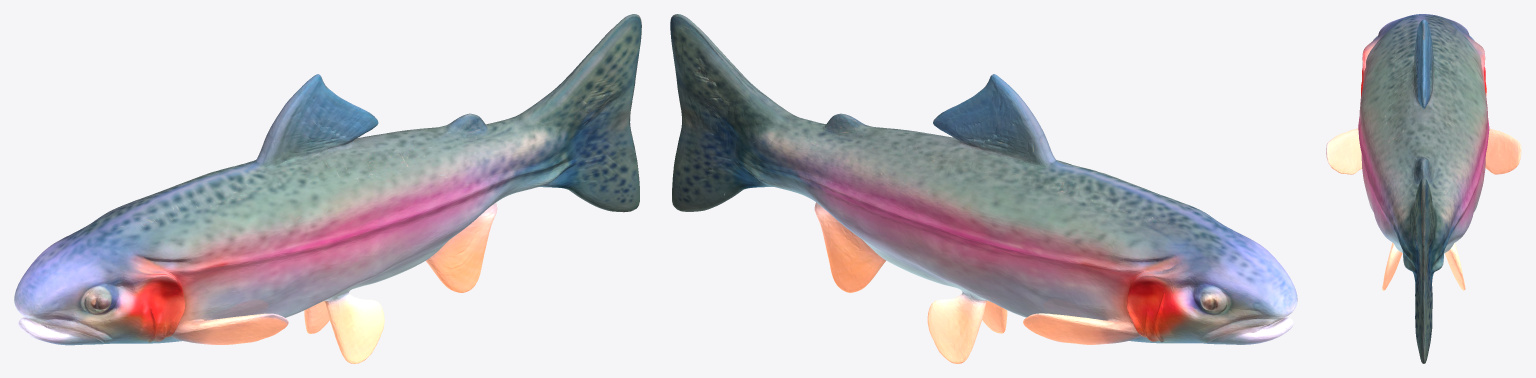
File: rainbow_trout.fbx
3 views of the same model, side by side, from view 1: azimuth 30°, elevation 25°; view 2: azimuth 150°, elevation 25°; view 3: azimuth 270°, elevation 25° (orthographic). The views are drawn at different scales.
Parts seen in each view (by area): view 1: world; view 2: world; view 3: world.
Boxes of the visible parts, bbox=[...] form: world: bbox=[14, 14, 641, 363]; world: bbox=[670, 14, 1297, 363]; world: bbox=[1326, 14, 1521, 363].
Size of the model in its own units: 199 by 85.36 by 57.79.
Materials: 1 (1 with a texture image).
